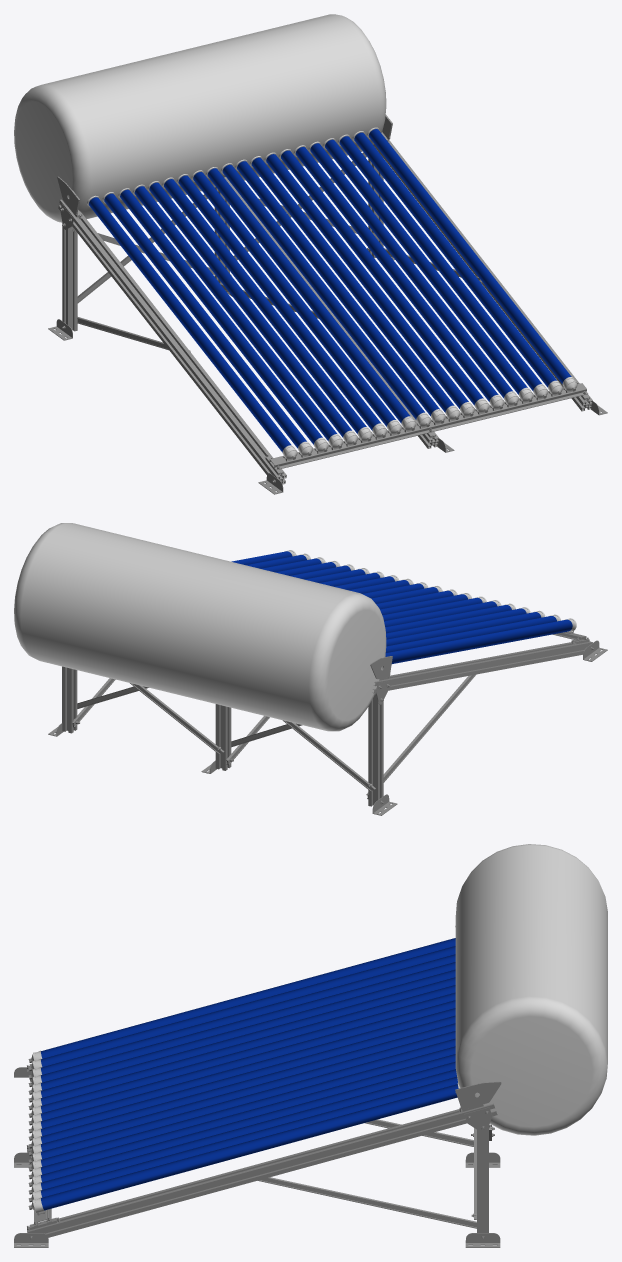
File: Solar_water_heater.fbx
3 renders of one model, top to bottom at view 1: azimuth 30°, elevation 25°; view 2: azimuth 150°, elevation 25°; view 3: azimuth 270°, elevation 25°, orthographic. The views are drawn at different scales.
Visible parts, largest first — view 1: tubes, soalr_heater_tank, frame; view 2: soalr_heater_tank, tubes, frame; view 3: tubes, soalr_heater_tank, frame.
Boxes of the visible parts, bbox=[...] form: tubes: bbox=[87, 127, 577, 460]; soalr_heater_tank: bbox=[14, 14, 386, 222]; frame: bbox=[48, 114, 607, 494]; soalr_heater_tank: bbox=[14, 523, 386, 731]; tubes: bbox=[231, 550, 576, 663]; frame: bbox=[48, 630, 607, 815]; tubes: bbox=[28, 938, 459, 1212]; soalr_heater_tank: bbox=[455, 844, 607, 1135]; frame: bbox=[14, 926, 501, 1247].
Bounding box in the file's own units: 2.71 × 1.73 × 3.89.
